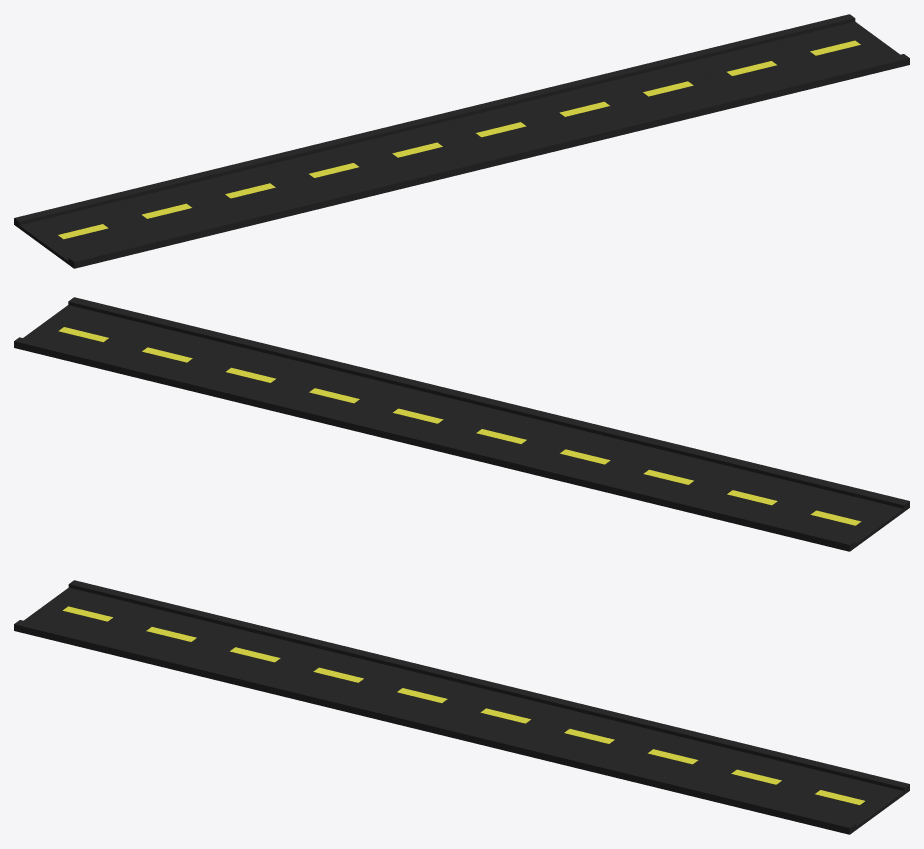
The model's file is Road.fbx.
The picture shows the model from 3 angles, top to bottom: view 1: azimuth 30°, elevation 25°; view 2: azimuth 150°, elevation 25°; view 3: azimuth 330°, elevation 25°; orthographic projection.
Visible parts, largest first — view 1: Road; view 2: Road; view 3: Road.
Part boxes in pixels (bbox=[...]): Road: bbox=[14, 14, 909, 268]; Road: bbox=[14, 297, 909, 551]; Road: bbox=[14, 580, 909, 834].
Size of the model in its own units: 6765 by 51.9 by 844.
